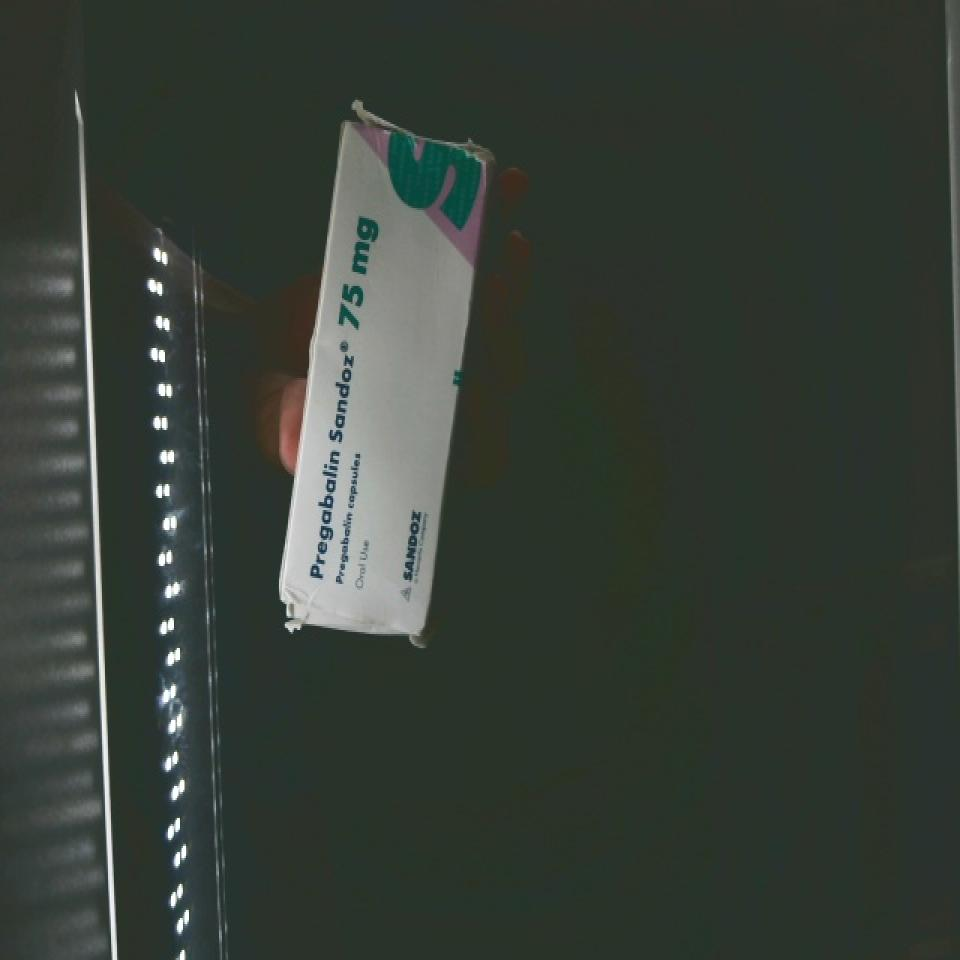medicine_box: (272, 120, 495, 636)
medicine_label_obb: (287, 330, 369, 599)
